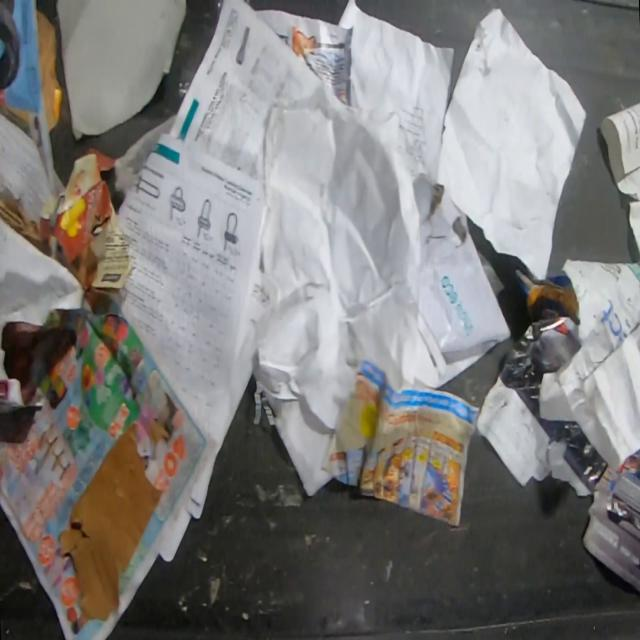cardboard: (49, 149, 137, 291)
soft_plastic: (175, 37, 212, 100)
